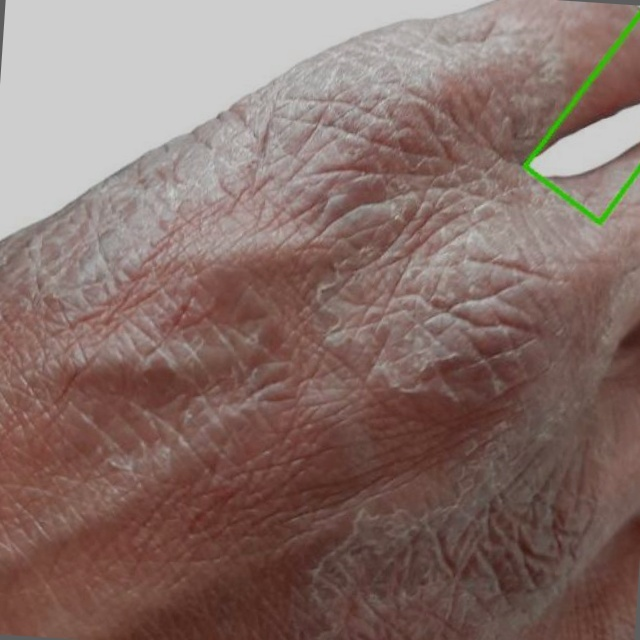Contact Dermatitis: (515, 2, 639, 222)
